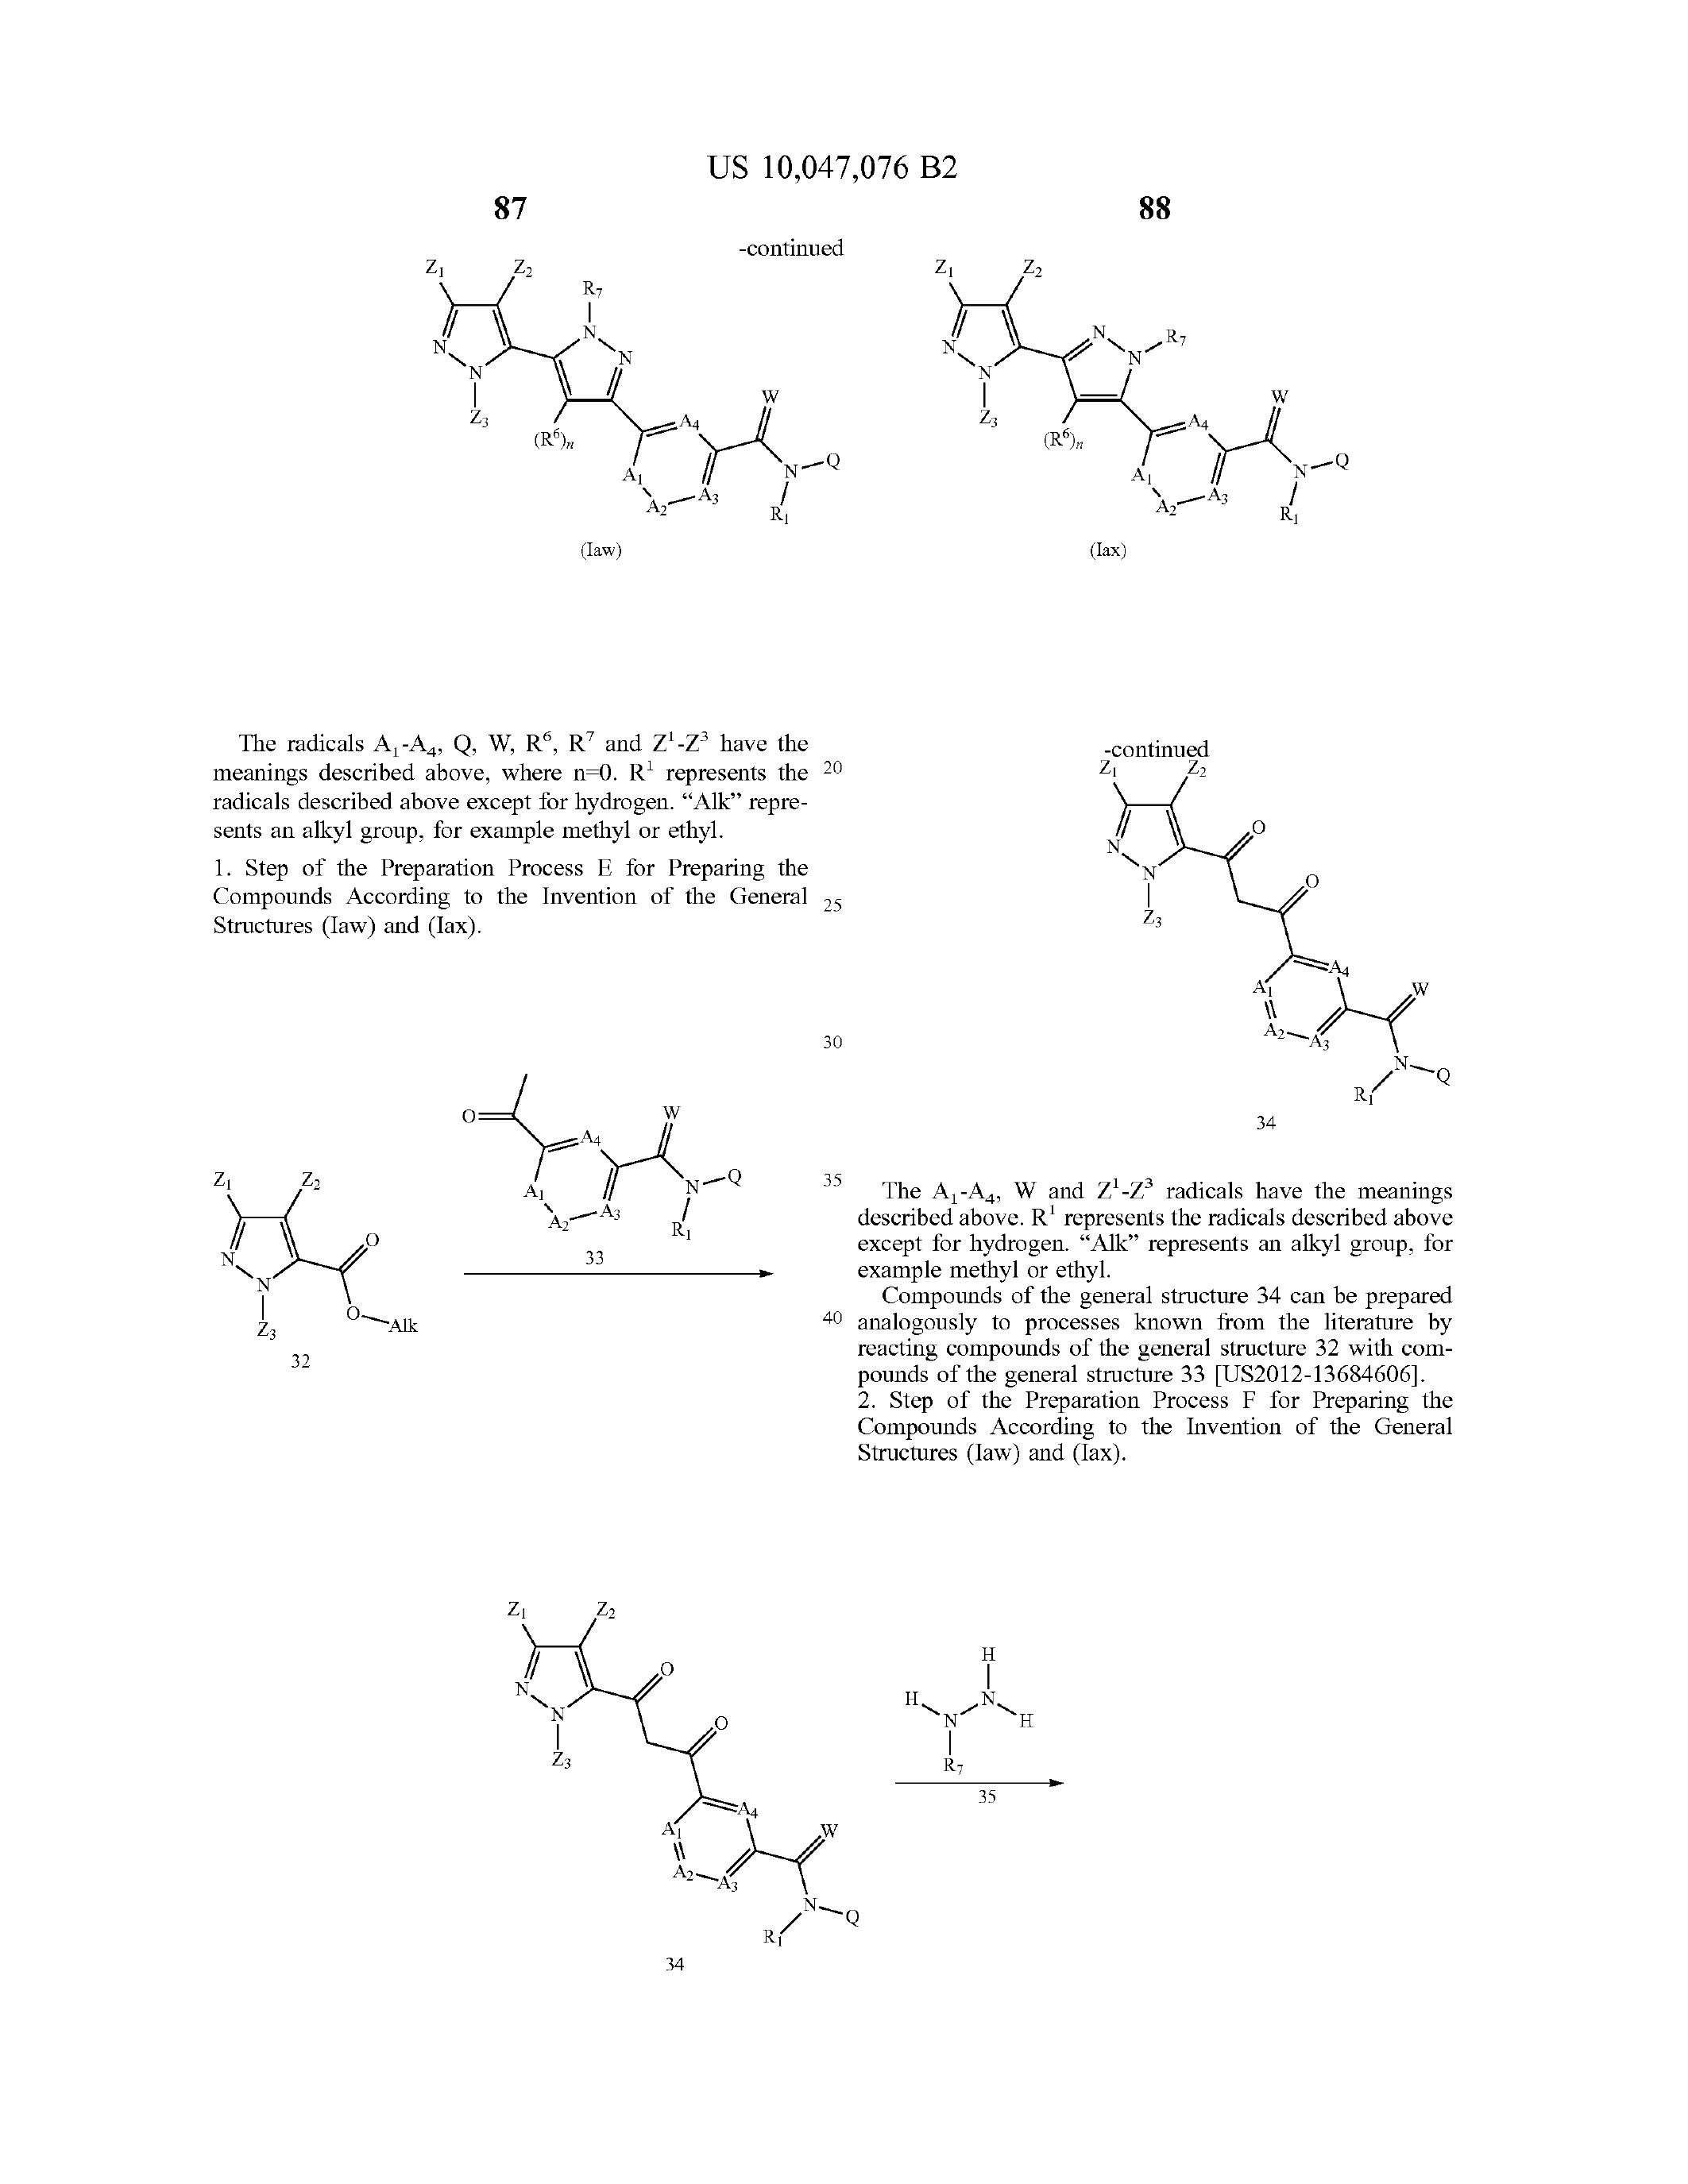markush-structures: (321, 209, 874, 608)
